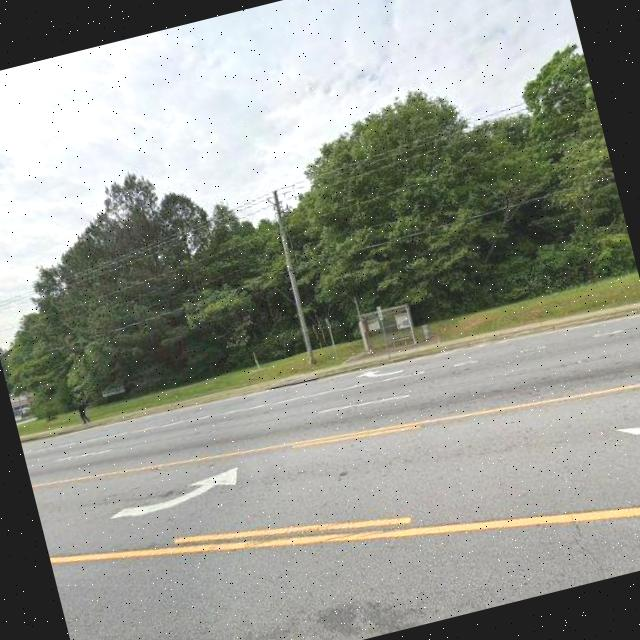seating: (388, 335, 412, 349)
shelter: (352, 301, 420, 358)
trash_can: (418, 322, 432, 340)
